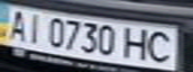0: (96, 23, 121, 57), (42, 16, 66, 48)
3: (78, 20, 100, 55)
7: (60, 17, 81, 52)
A: (3, 7, 30, 42)
C: (142, 28, 181, 64)
H: (121, 26, 154, 61)
I: (21, 12, 48, 44)
